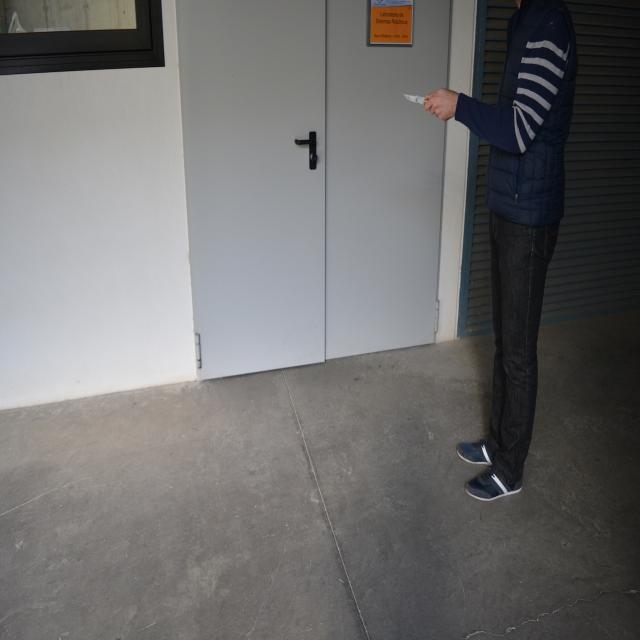knife: (402, 86, 428, 118)
